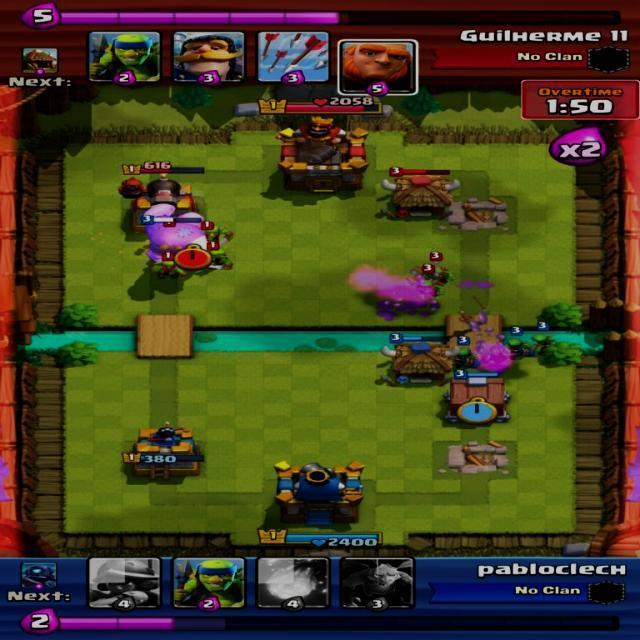ECannoneerTower: (119, 178, 200, 226)
EGoblin: (148, 259, 191, 281), (198, 223, 236, 246), (206, 248, 236, 274)
EGoblinHut: (380, 167, 454, 219)
EKingTower: (273, 123, 367, 197)
ESpearGoblin: (409, 268, 442, 302), (419, 259, 454, 287)
OGiant: (141, 212, 206, 254)
OGoblinCage: (439, 380, 520, 426)
OGoblinHut: (383, 338, 451, 391)
OSpearGoblin: (447, 339, 480, 378), (529, 329, 561, 366), (501, 334, 527, 367)
OwnKingTower: (272, 458, 363, 526)
OwnPrincessTower: (133, 423, 199, 474)
TowerDown: (427, 438, 519, 482), (439, 196, 518, 237)
